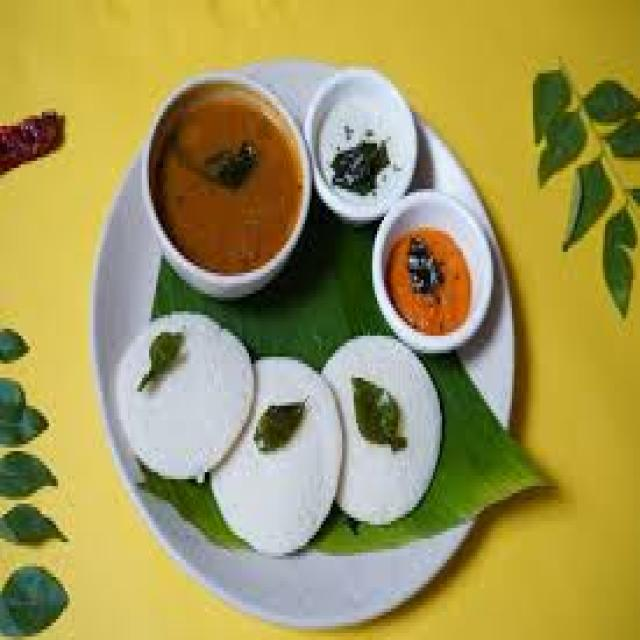IDLI: (209, 360, 337, 549), (321, 336, 440, 521), (121, 311, 251, 479)
